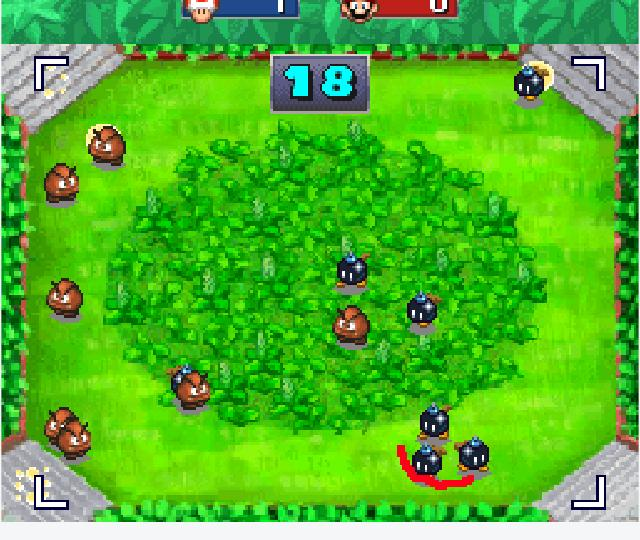bomb: (455, 434, 497, 478), (333, 248, 372, 290), (405, 290, 444, 331), (415, 403, 453, 444), (410, 442, 445, 486), (510, 65, 549, 103)
goomba: (329, 299, 371, 352), (42, 275, 85, 323), (39, 162, 84, 207), (174, 369, 216, 416), (86, 123, 128, 168), (56, 419, 96, 463), (42, 406, 72, 445)
